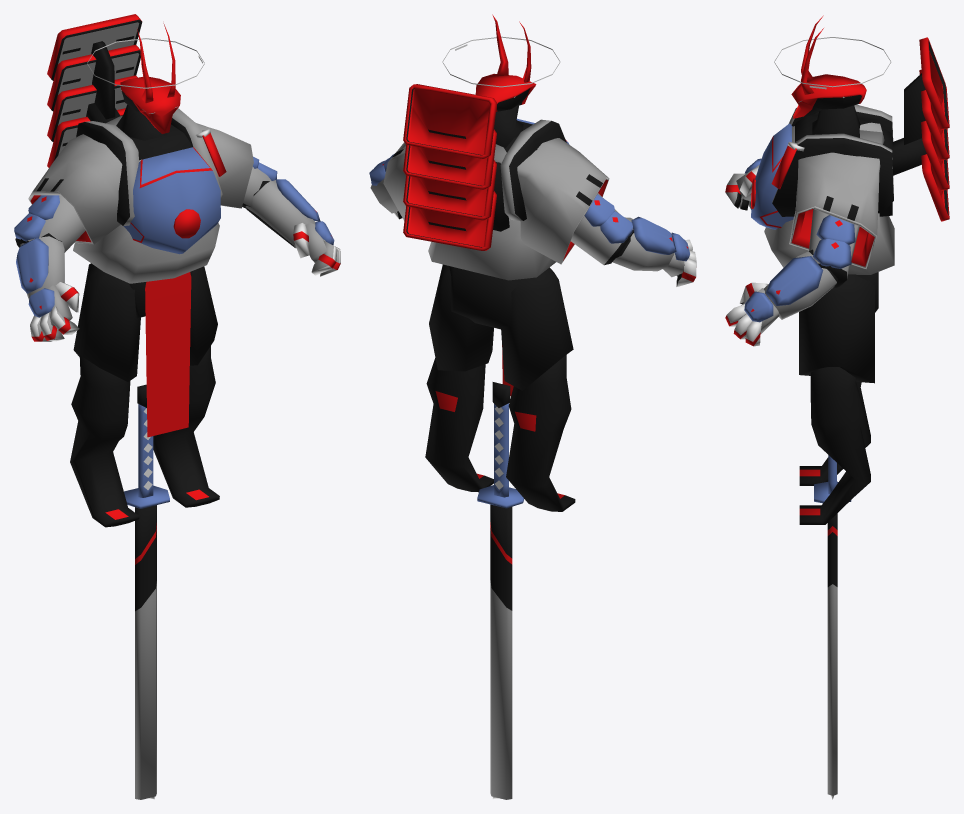
The model's file is SHOGUN.fbx.
3 renders of one model, left to right at view 1: azimuth 30°, elevation 25°; view 2: azimuth 150°, elevation 25°; view 3: azimuth 270°, elevation 25°, orthographic.
Visible parts, largest first — view 1: Cube.018, Cube.017, Cube.008, Cube.032, Cube.044, Cube.004, Cube.025, Cube.020, Cube.016, Cube.005, Cube.019, Cube.031 (+13 smaller); view 2: Cube.018, Cube.044, Cube.032, Cube.020, Cube.004, Cube.003, Cube.011, Cube.019, Cube.010, Cube.025, Cube.031, Cube.016 (+8 smaller); view 3: Cube.018, Cube.005, Cube.025, Cube.032, Cube.016, Cube.004, Cube.017, Cube.028, Cube.020, Cube.015, Cube.024, Cube.007 (+12 smaller).
Boxes of the visible parts, left/top/right/bottom form: Cube.018: left=70, top=263, right=219, bottom=527; Cube.017: left=123, top=147, right=220, bottom=254; Cube.008: left=145, top=272, right=191, bottom=437; Cube.032: left=135, top=505, right=156, bottom=799; Cube.044: left=28, top=116, right=122, bottom=244; Cube.004: left=73, top=159, right=219, bottom=283; Cube.025: left=76, top=108, right=222, bottom=225; Cube.020: left=47, top=14, right=142, bottom=80; Cube.016: left=120, top=23, right=180, bottom=133; Cube.005: left=121, top=116, right=253, bottom=208; Cube.019: left=47, top=44, right=140, bottom=111; Cube.031: left=124, top=384, right=169, bottom=799; Cube.018: left=425, top=264, right=575, bottom=511; Cube.044: left=494, top=138, right=609, bottom=264; Cube.032: left=490, top=504, right=512, bottom=799; Cube.020: left=403, top=84, right=496, bottom=158; Cube.004: left=428, top=217, right=555, bottom=280; Cube.003: left=449, top=266, right=520, bottom=329; Cube.011: left=403, top=160, right=496, bottom=220; Cube.019: left=403, top=129, right=496, bottom=189; Cube.010: left=403, top=191, right=496, bottom=250; Cube.025: left=500, top=119, right=566, bottom=220; Cube.031: left=477, top=382, right=523, bottom=799; Cube.016: left=475, top=14, right=536, bottom=111; Cube.018: left=799, top=275, right=874, bottom=524; Cube.005: left=789, top=130, right=884, bottom=268; Cube.025: left=772, top=104, right=893, bottom=216; Cube.032: left=827, top=513, right=837, bottom=795; Cube.016: left=791, top=15, right=866, bottom=118; Cube.004: left=764, top=126, right=894, bottom=274; Cube.017: left=751, top=123, right=793, bottom=229; Cube.028: left=765, top=256, right=823, bottom=305; Cube.020: left=919, top=37, right=949, bottom=130; Cube.015: left=812, top=105, right=860, bottom=137; Cube.024: left=904, top=73, right=925, bottom=144; Cube.007: left=764, top=249, right=837, bottom=319.
Bounding box in the file's own units: 109 × 261 × 68.53.
